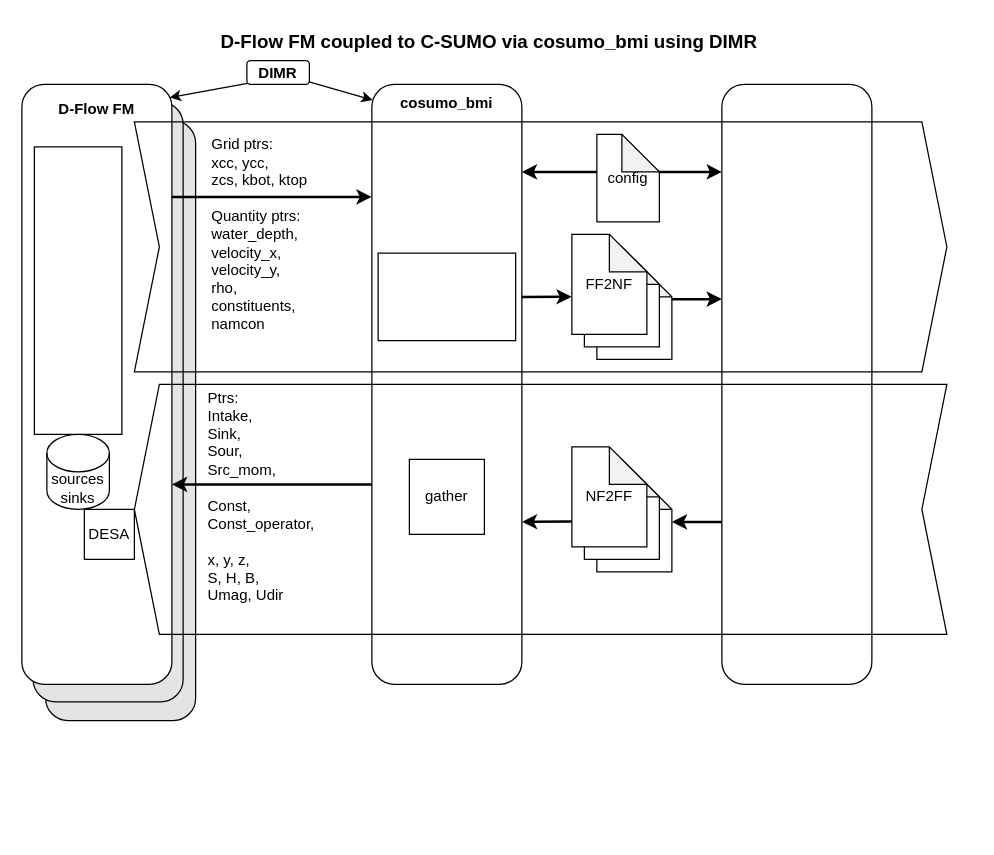
Some shapes in this 994 by 855 pixel diagram are drawn without their labels. Here are the shapes that lost their labels. From the top down, the centre of each, then its label:
At point 77,290: "Compute".
At point 446,296: "Quantities at points: diffusor ambient intake".
At point 796,383: "C-SUMO".
